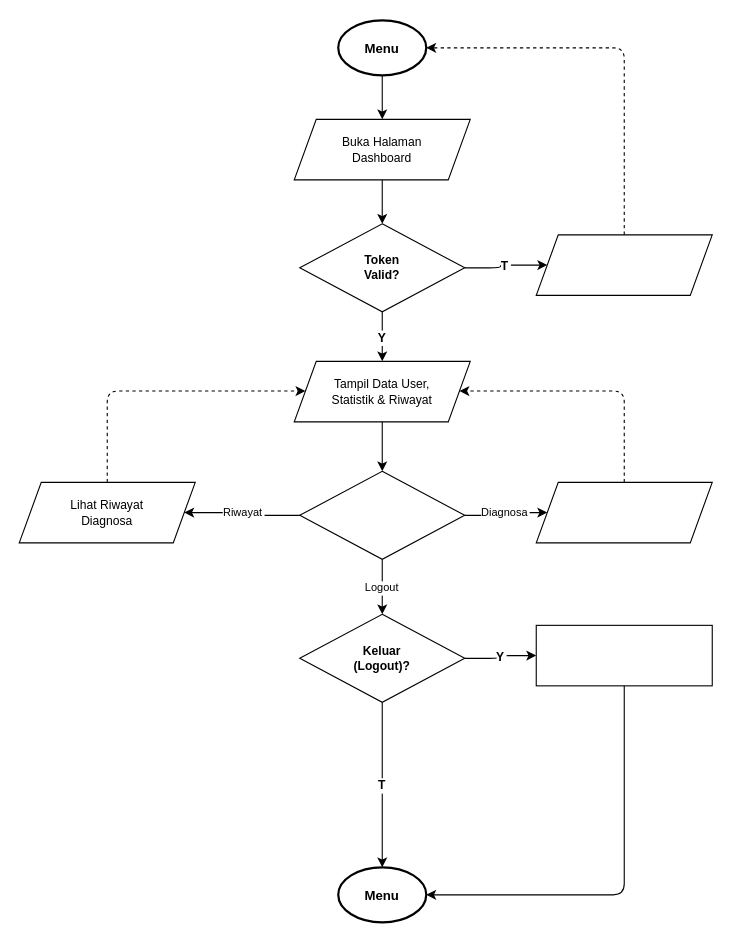
This 732x942 diagram has some shape labels left out. Here are the shapes that lost their labels. From the top down, the centre of each, then its label:
At point (623, 264): "Redirect ke Halaman Login".
At point (382, 514): "Pilih Menu?".
At point (623, 512): "Mulai Diagnosa Baru".
At point (623, 655): "Hapus Token dari LocalStorage".
